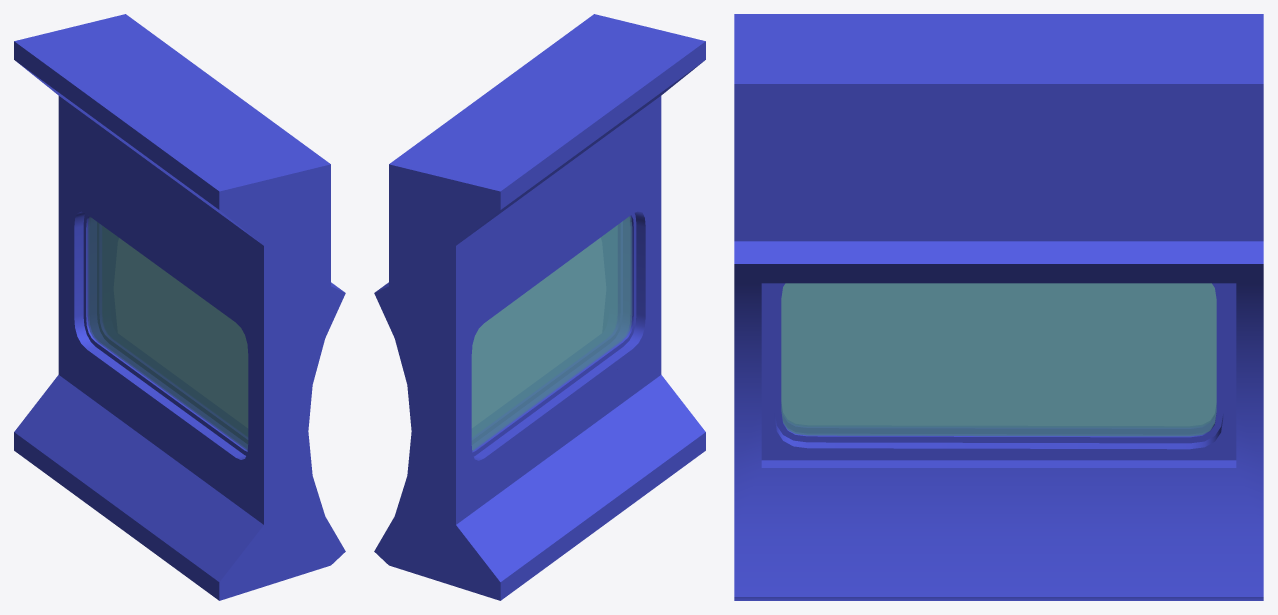
File: RoundCorr_Wall_Win_A.FBX
3 renders of one model, left to right at view 1: azimuth 30°, elevation 25°; view 2: azimuth 150°, elevation 25°; view 3: azimuth 270°, elevation 25°, orthographic. The views are drawn at different scales.
Visible parts, largest first — view 1: RoundCorr_Wall_Win_A; view 2: RoundCorr_Wall_Win_A; view 3: RoundCorr_Wall_Win_A.
Boxes of the visible parts, <box> form: RoundCorr_Wall_Win_A: <box>14,14,345,600</box>; RoundCorr_Wall_Win_A: <box>374,14,705,600</box>; RoundCorr_Wall_Win_A: <box>734,14,1263,600</box>.
Size of the model in its own units: 142 by 440 by 400.
